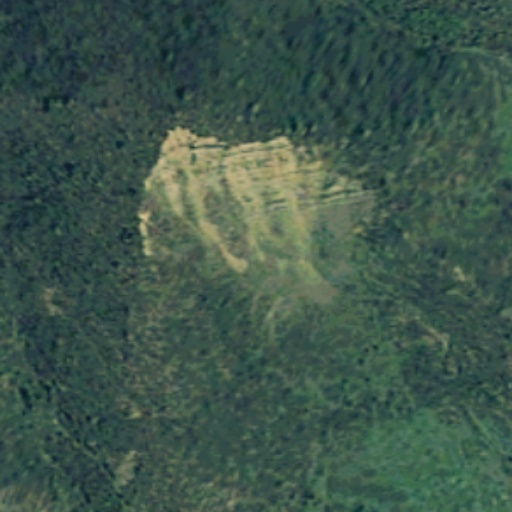landslide: (142, 127, 372, 303)
